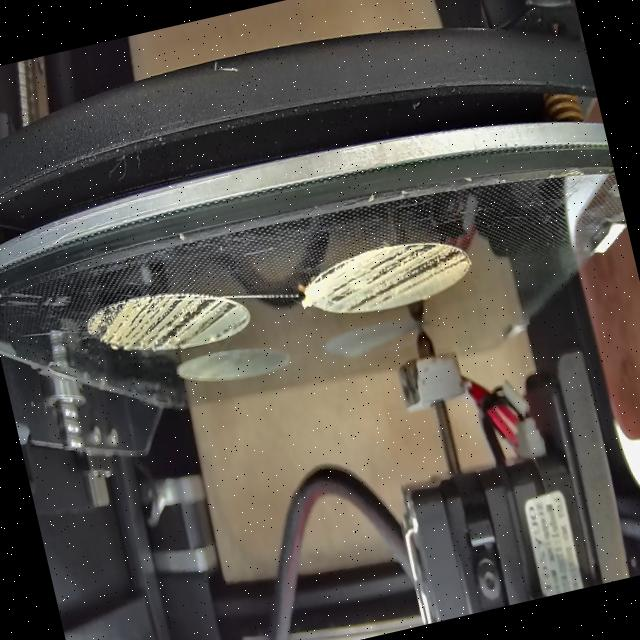under_extrusion: (89, 277, 248, 373), (312, 226, 474, 319)
